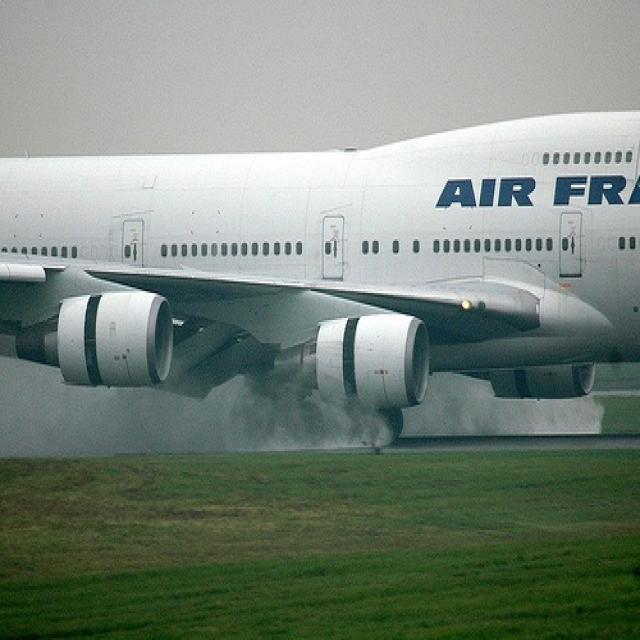aeroplane: (0, 110, 639, 445)
